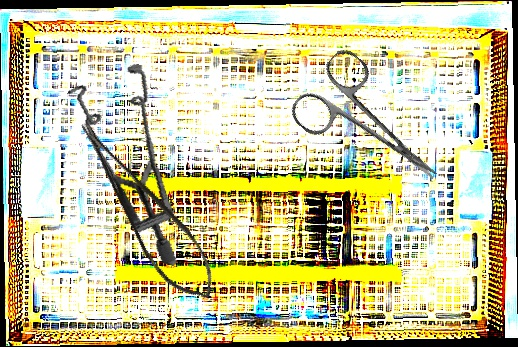Iris Scissors: (285, 44, 462, 214)
Micro Scissor: (74, 102, 226, 315)
Speculum: (33, 49, 222, 267)
